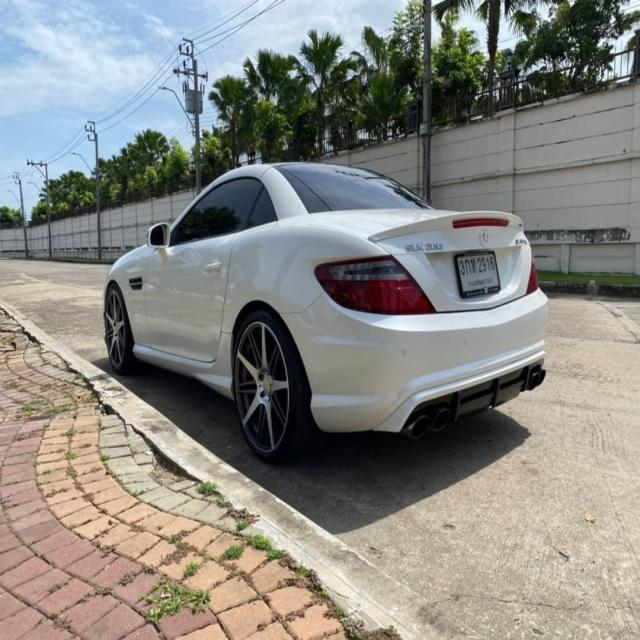license_plate: (452, 249, 502, 302)
